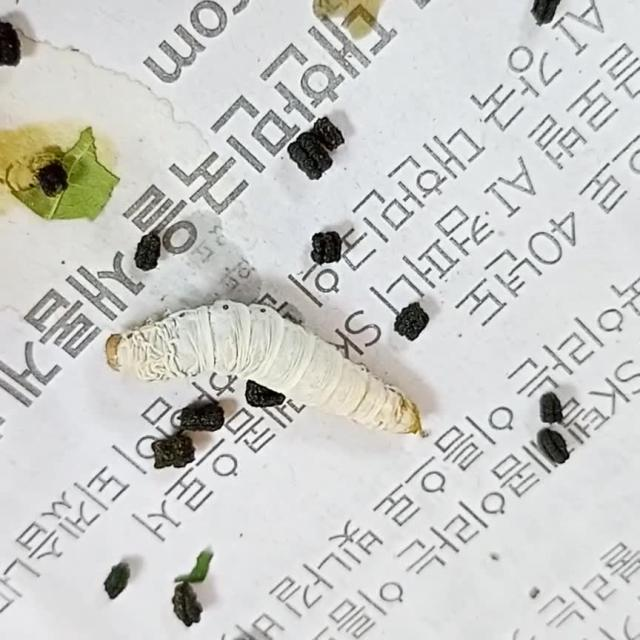Grasserie: (99, 273, 441, 447)
